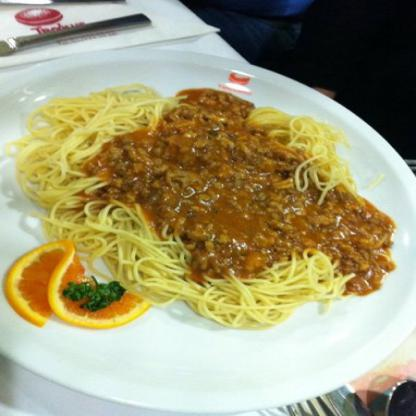pasta: (20, 90, 371, 328)
